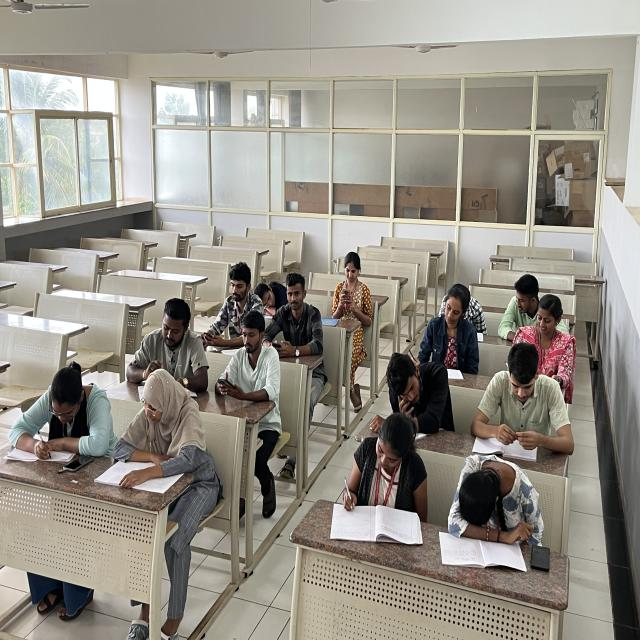Reading: (26, 337, 126, 488), (110, 358, 211, 500), (474, 339, 572, 456)
Sleeping: (441, 454, 559, 579), (254, 273, 287, 308)
Using Phone: (213, 310, 282, 408), (201, 250, 267, 341), (372, 343, 446, 415), (324, 244, 378, 334)
Writing: (323, 405, 435, 557), (407, 276, 479, 367)
